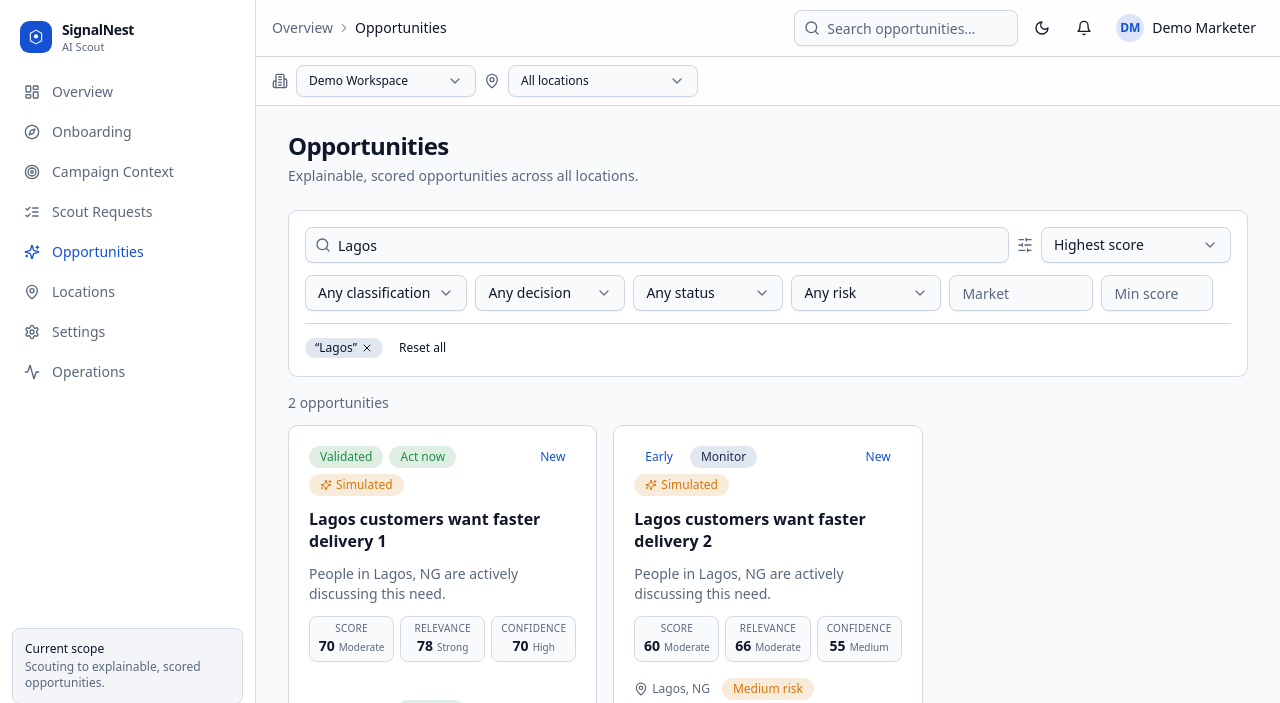
Scenario: header global search while already on Opportunities (P6-UI-021) › replaces a term typed on the page, and is not rewritten back by the page
The image size is (1280, 703).
Check: the heading "Lagos customers want faster delivery 1" is shown, box x1=309 y1=508 x2=576 y2=552
Check: the search field named "Search opportunities" holds "Lagos", box x1=305 y1=227 x2=1009 y2=263
Step 1. Type "Nairobi" into the search field labelled "Search opportunities…" → (906, 28), box x1=794 y1=10 x2=1018 y2=46
Then press Enter
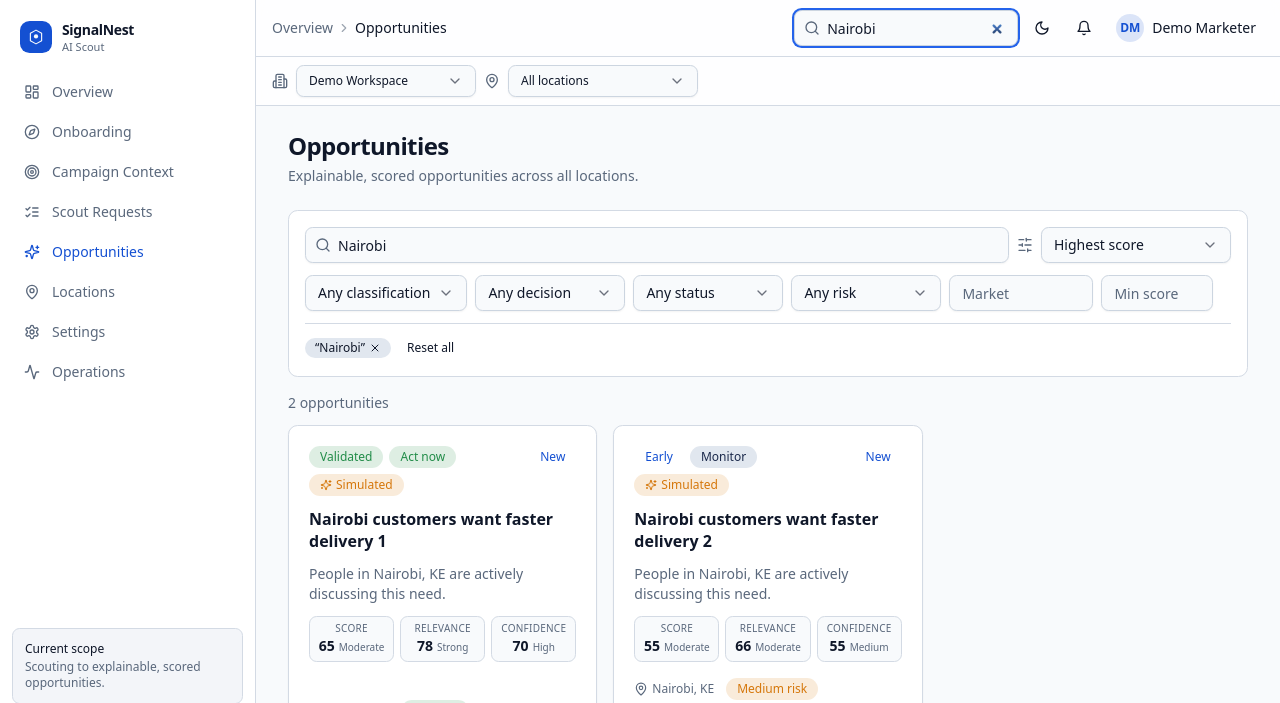
Check: the 2nd search field named "Search opportunities" holds "Nairobi", box x1=305 y1=227 x2=1009 y2=263
Check: the heading "Nairobi customers want faster delivery 1" is shown, box x1=309 y1=508 x2=576 y2=552
Check: the link "Lagos customers" is gone
